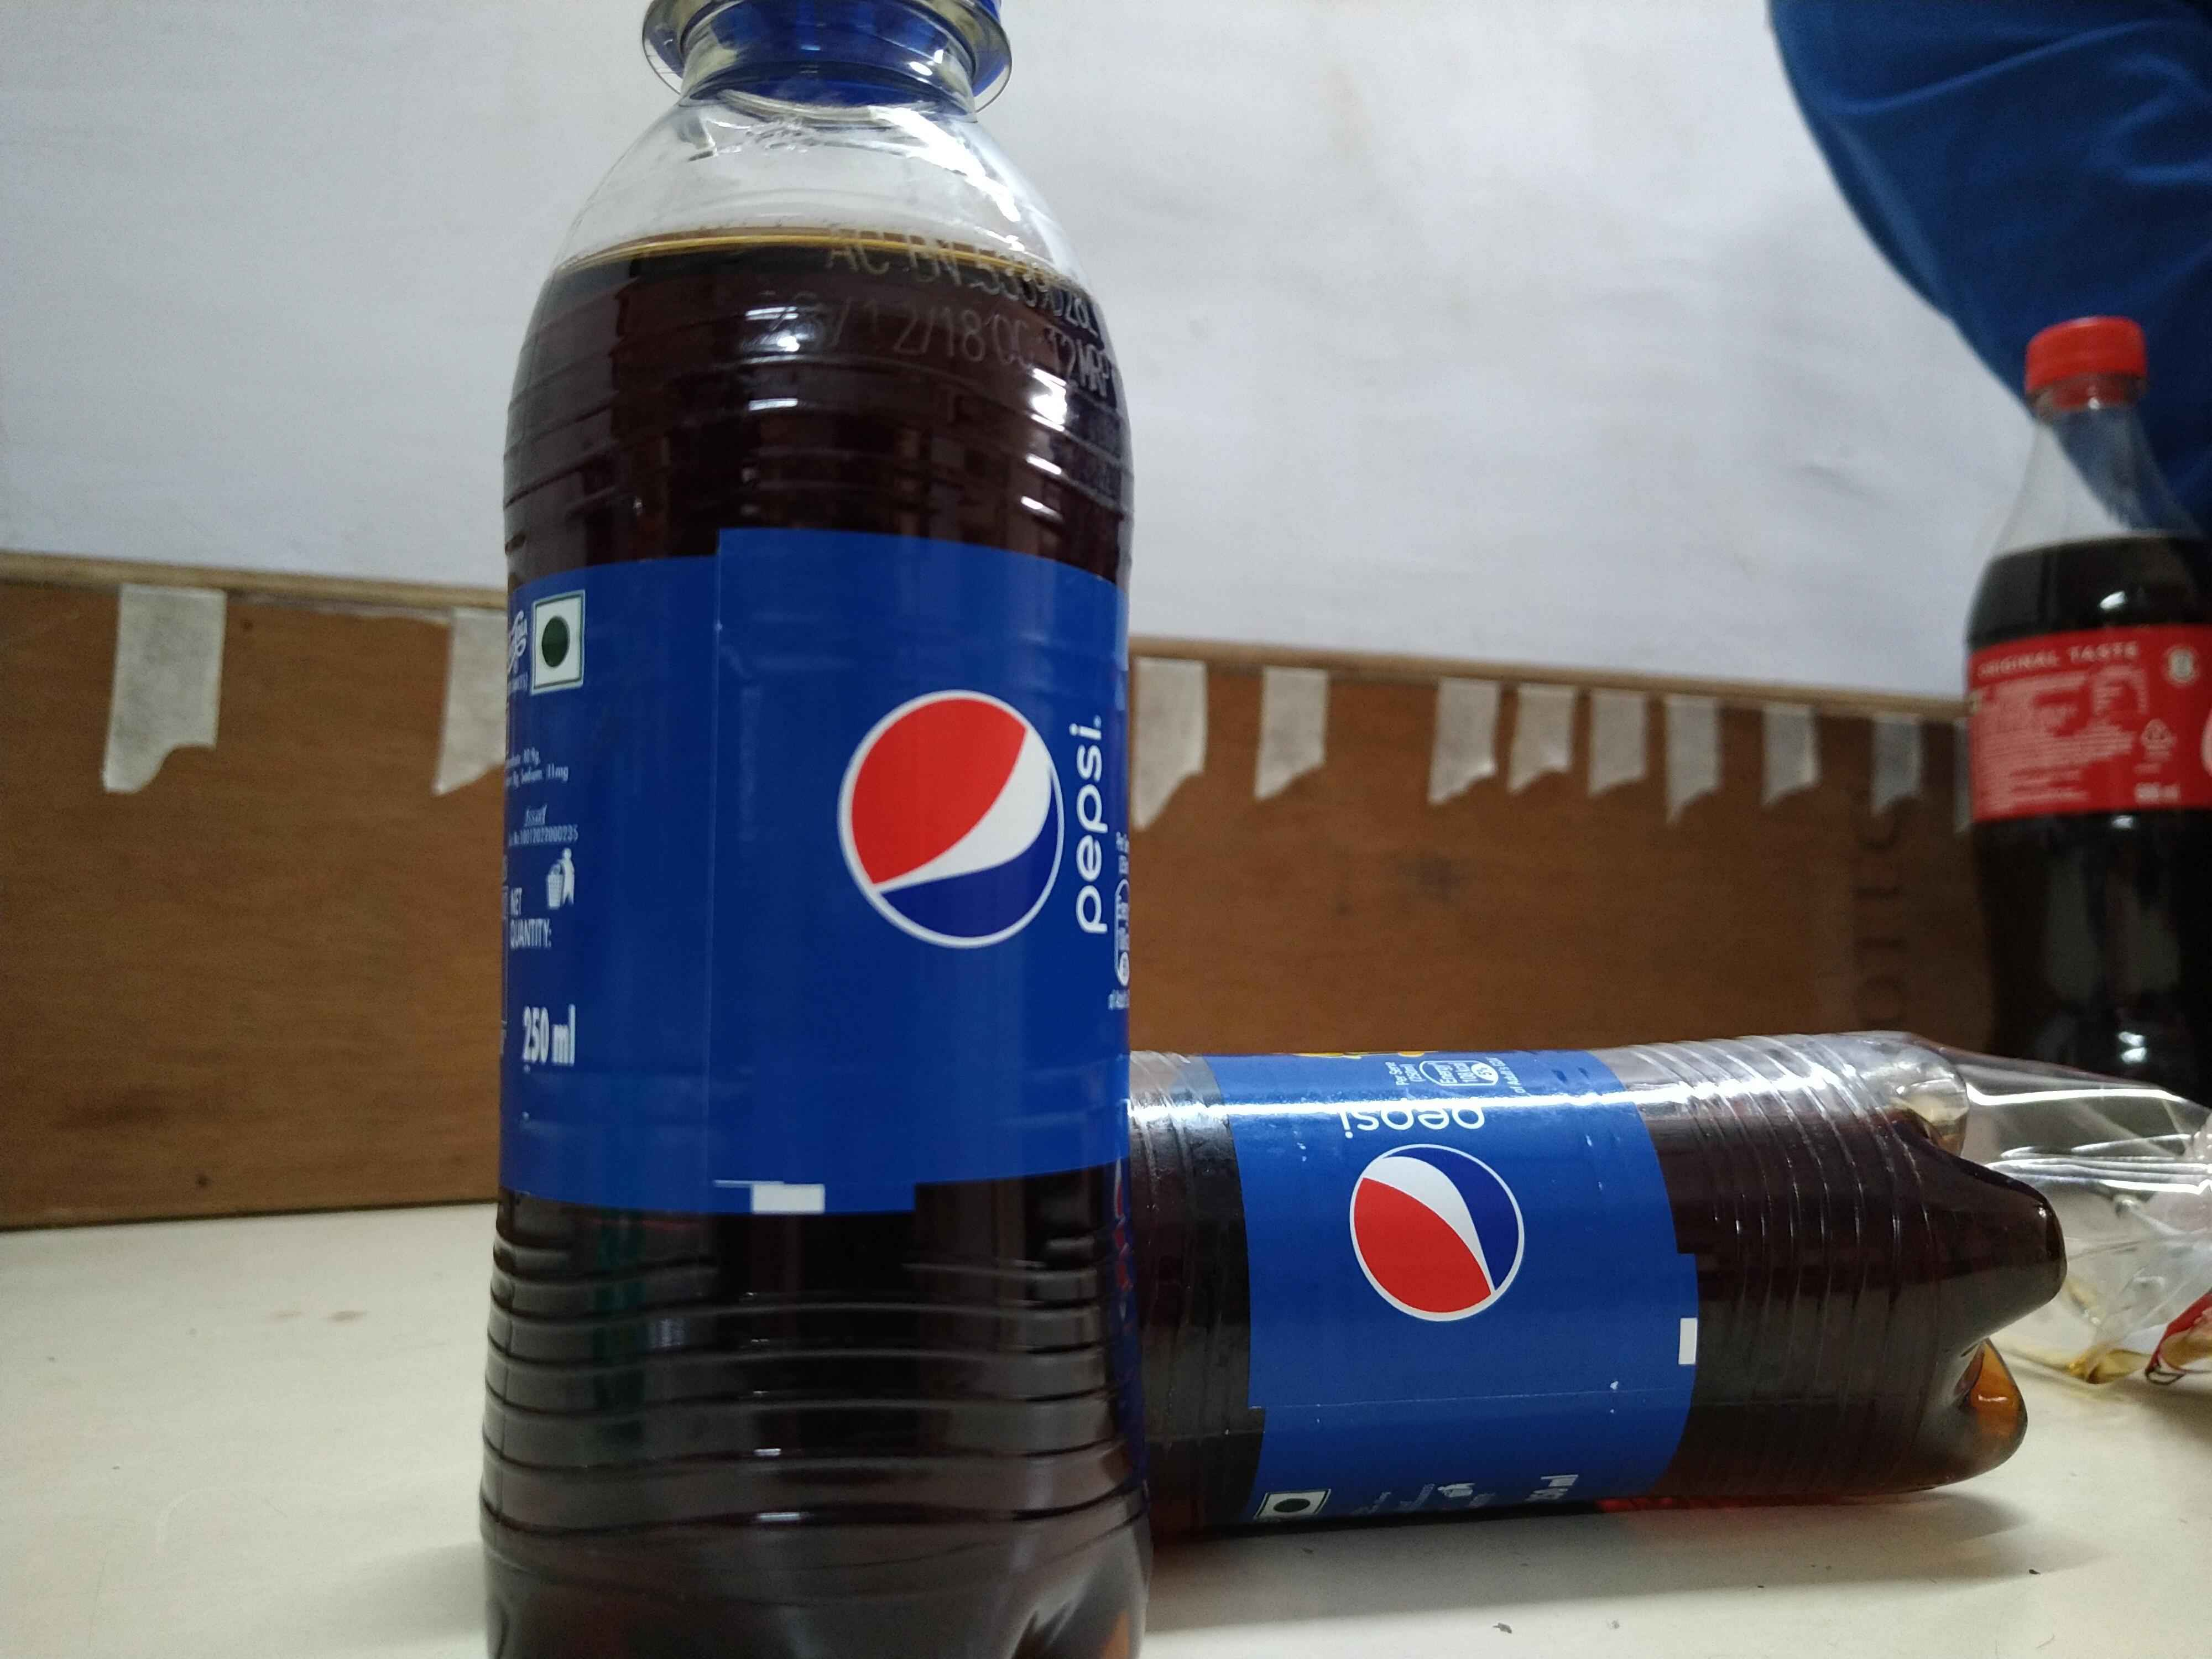pepsi: (833, 673, 1108, 974), (1289, 1091, 1571, 1331)
